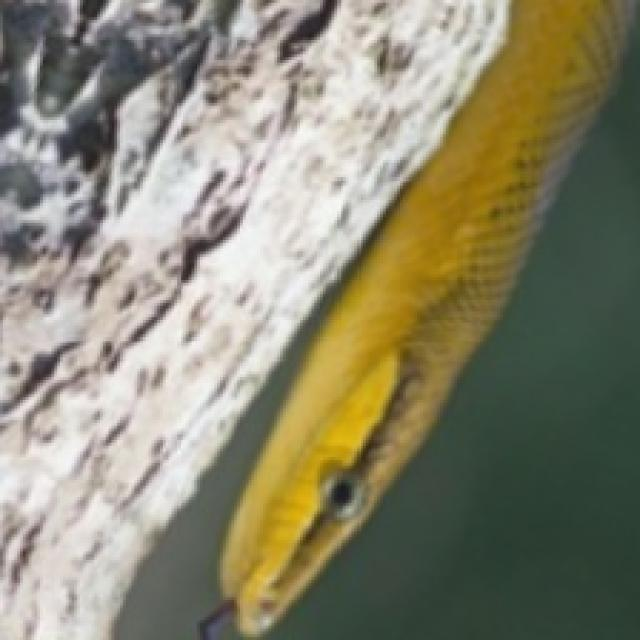red-tailed green ratsnake: (220, 0, 626, 634)
